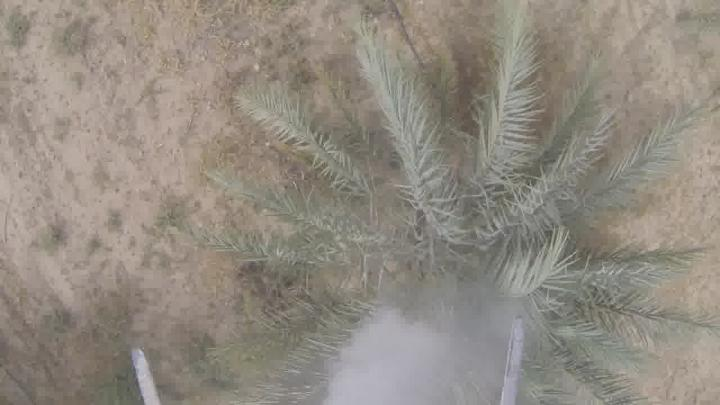Date-Palm-Crown: (323, 110, 625, 393)
